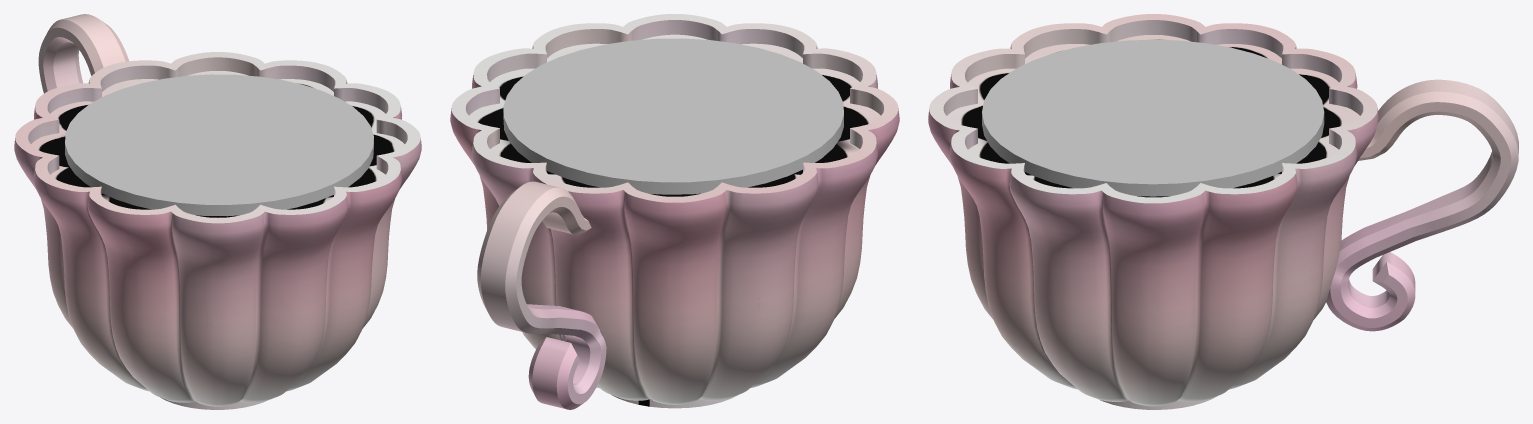
Rendered from cup_112.fbx.
The picture shows the model from 3 angles, left to right: view 1: azimuth 30°, elevation 25°; view 2: azimuth 150°, elevation 25°; view 3: azimuth 270°, elevation 25°; orthographic projection. The views are drawn at different scales.
Parts seen in each view (by area): view 1: Cylinder012, Cylinder002, Object002; view 2: Cylinder012, Cylinder002, Object002; view 3: Cylinder012, Cylinder002, Object002.
Part boxes in pixels (x1,y1,x2,y2): Cylinder012: (14, 14, 421, 409); Cylinder002: (65, 74, 373, 216); Object002: (31, 71, 404, 217); Cylinder012: (450, 14, 899, 409); Cylinder002: (503, 38, 843, 194); Object002: (469, 34, 880, 196); Cylinder012: (928, 14, 1518, 409); Cylinder002: (982, 39, 1324, 196); Object002: (947, 35, 1359, 197).
Bounding box in the file's own units: 153 × 109 × 201.
